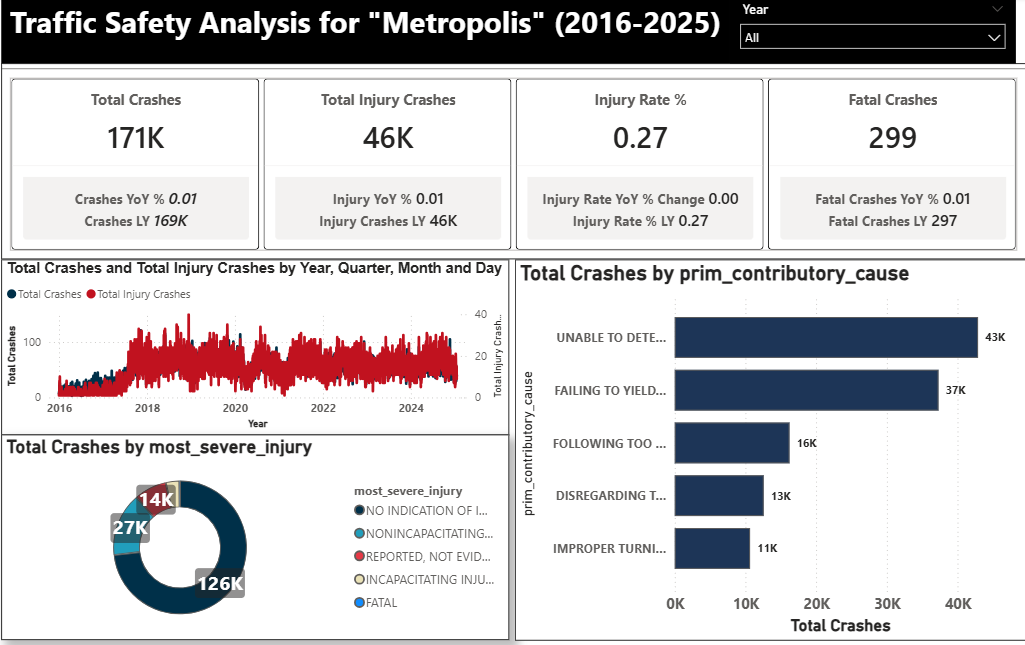

The page's visual inventory and layout, read from the dashboard file:
{"tool":"powerbi","page":{"name":"Home","canvas":[1280,720],"ordinal":0},"visuals":[{"type":"cardVisual","fields":{"Data":["_Measure.Total Crashes","_Measure.Total Injury Crashes","_Measure.Injury Rate %","_Measure.Fatal Crashes"]},"box":[155.1,72.7,1125.2,215.4],"z":0},{"type":"slicer","fields":{"Values":["DateTable.Date.Variation.Date Hierarchy.Year"]},"box":[954.9,0,313.4,73.2],"z":1000},{"type":"lineChart","fields":{"Category":["DateTable.Date.Variation.Date Hierarchy.Year","DateTable.Date.Variation.Date Hierarchy.Quarter","DateTable.Date.Variation.Date Hierarchy.Month","DateTable.Date.Variation.Date Hierarchy.Day"],"Y":["_Measure.Total Crashes"],"Y2":["_Measure.Total Injury Crashes"]},"box":[154.9,287.8,557.3,192.7],"z":2000},{"type":"donutChart","fields":{"Category":["traffic_accidents csv.most_severe_injury"],"Y":["_Measure.Total Crashes"]},"box":[154.9,480.5,557.3,225.6],"z":3000},{"type":"clusteredBarChart","fields":{"Category":["traffic_accidents csv.prim_contributory_cause"],"Y":["_Measure.Total Crashes"]},"box":[719,288.2,561.2,418.5],"z":4000},{"type":"textbox","box":[155.1,0,800,72.7],"z":5000}]}

Visuals, with their boxes on the page's 1280x720 design canvas (x1, y1, x2, y2). These are canvas units, not pixel positions in the 1025x645 screenshot, which may show the page scaled, cropped or inside an application window:
cardVisual - _Measure.Total Crashes x _Measure.Total Injury Crashes: l=155, t=73, r=1280, b=288
slicer - DateTable.Date.Variation.Date Hierarchy.Year: l=955, t=0, r=1268, b=73
lineChart - DateTable.Date.Variation.Date Hierarchy.Year x DateTable.Date.Variation.Date Hierarchy.Quarter: l=155, t=288, r=712, b=480
donutChart - traffic_accidents csv.most_severe_injury x _Measure.Total Crashes: l=155, t=480, r=712, b=706
clusteredBarChart - traffic_accidents csv.prim_contributory_cause x _Measure.Total Crashes: l=719, t=288, r=1280, b=707
textbox: l=155, t=0, r=955, b=73
